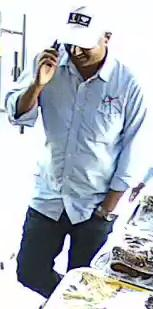no_apron: (30, 34, 137, 225)
